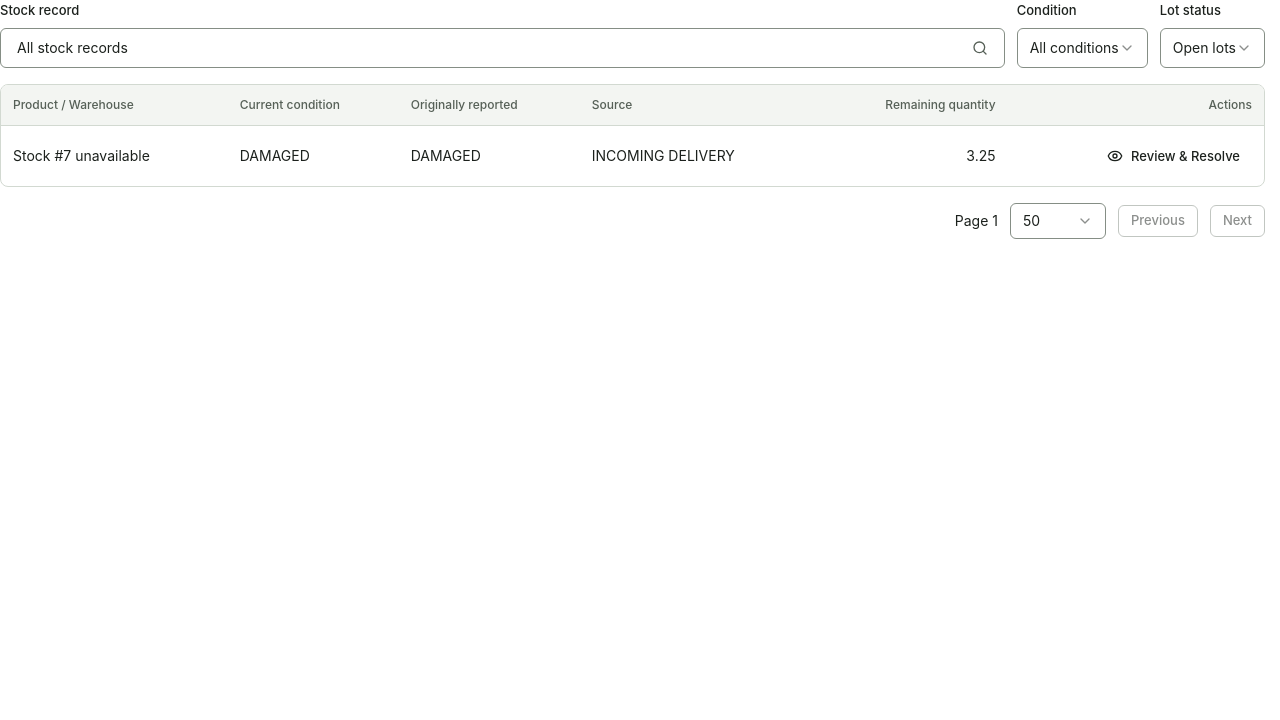
does not invent missing product or warehouse context or allow an unidentified stock resolution
The image size is (1280, 720).
Expected: the text "Stock #7 unavailable" is shown, [1,125,232,186]
Step 1. Click the button "Review & Resolve" → (1174,156), box [1095,140,1252,172]
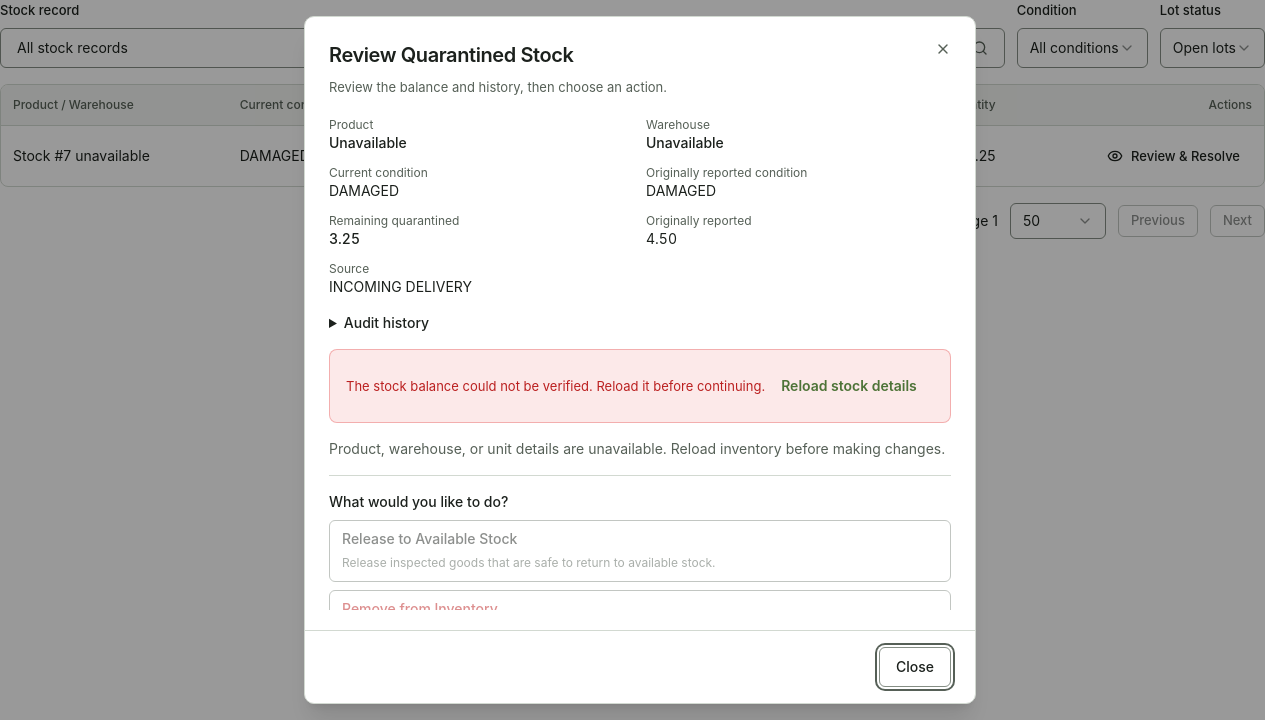
Result: the text "Originally reported condition" is shown at [646,165,807,180]
Result: the text "Product, warehouse, or unit details are unavailable" is shown at [329,440,945,457]
